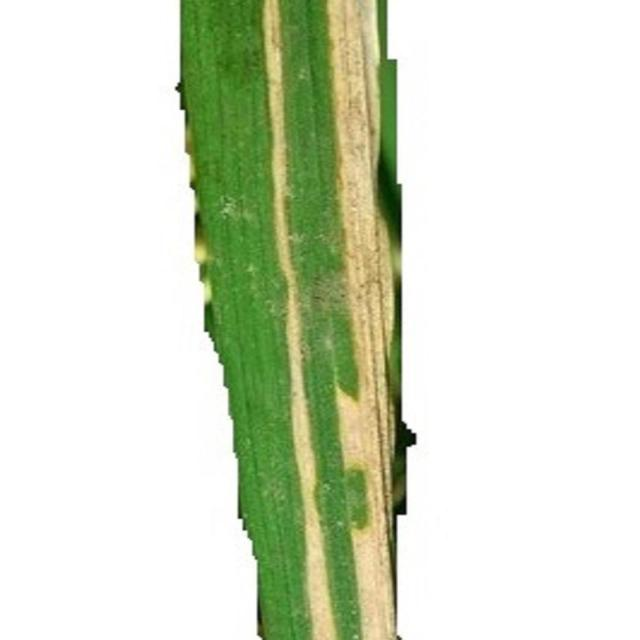Bacterial leaf blight: (260, 1, 333, 640), (327, 2, 400, 640)
